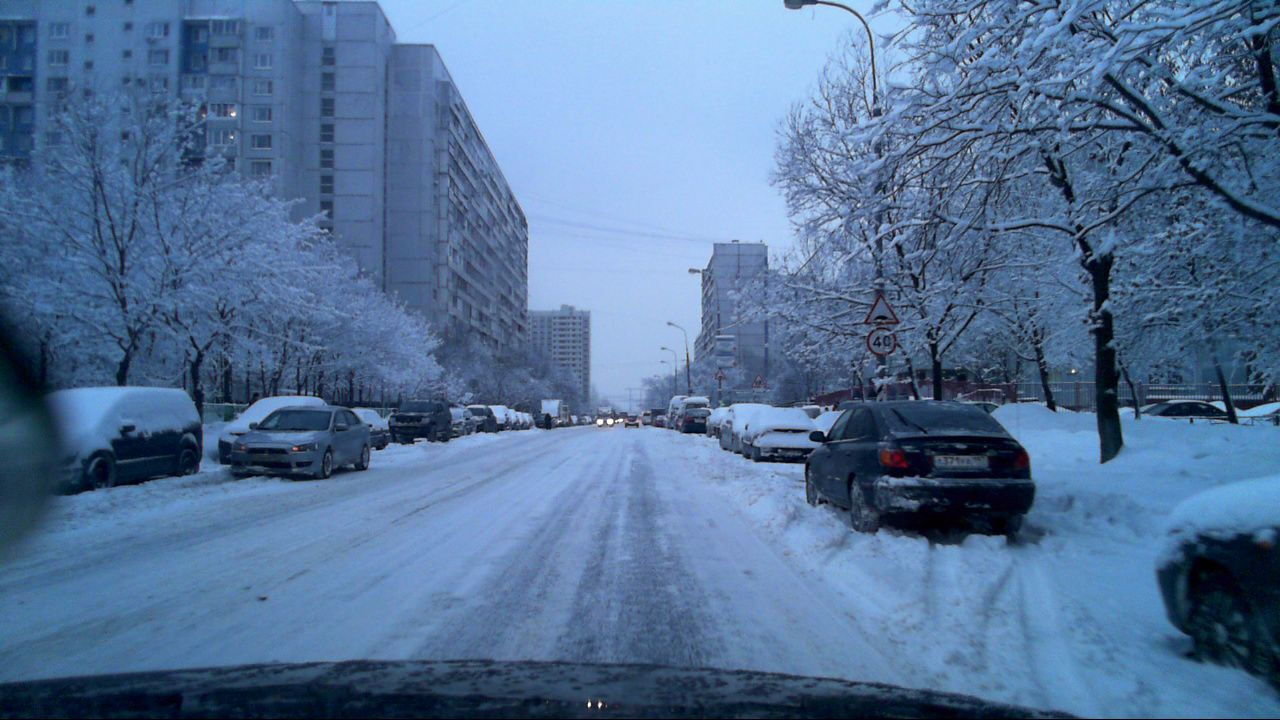speed_warning_40: (867, 326, 898, 356)
